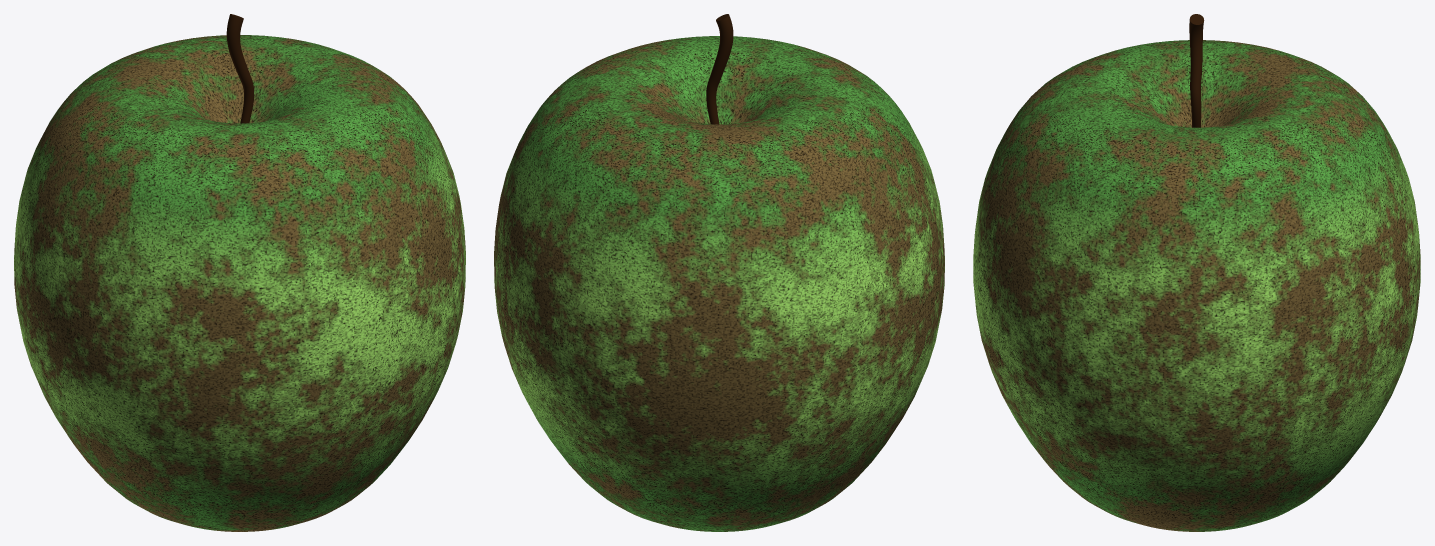
Rendered from 133_manzana_02.glb.
3 renders of one model, left to right at view 1: azimuth 30°, elevation 25°; view 2: azimuth 150°, elevation 25°; view 3: azimuth 270°, elevation 25°, orthographic.
Parts seen in each view (by area): view 1: Manzana.002; view 2: Manzana.002; view 3: Manzana.002.
Boxes of the visible parts, x1,y1,x2,y2 form: Manzana.002: (14,14,465,531); Manzana.002: (494,14,944,531); Manzana.002: (973,14,1420,531).
Bounding box in the file's own units: 0.0802 × 0.0945 × 0.0802.
Materials: 2 (2 with a texture image).
